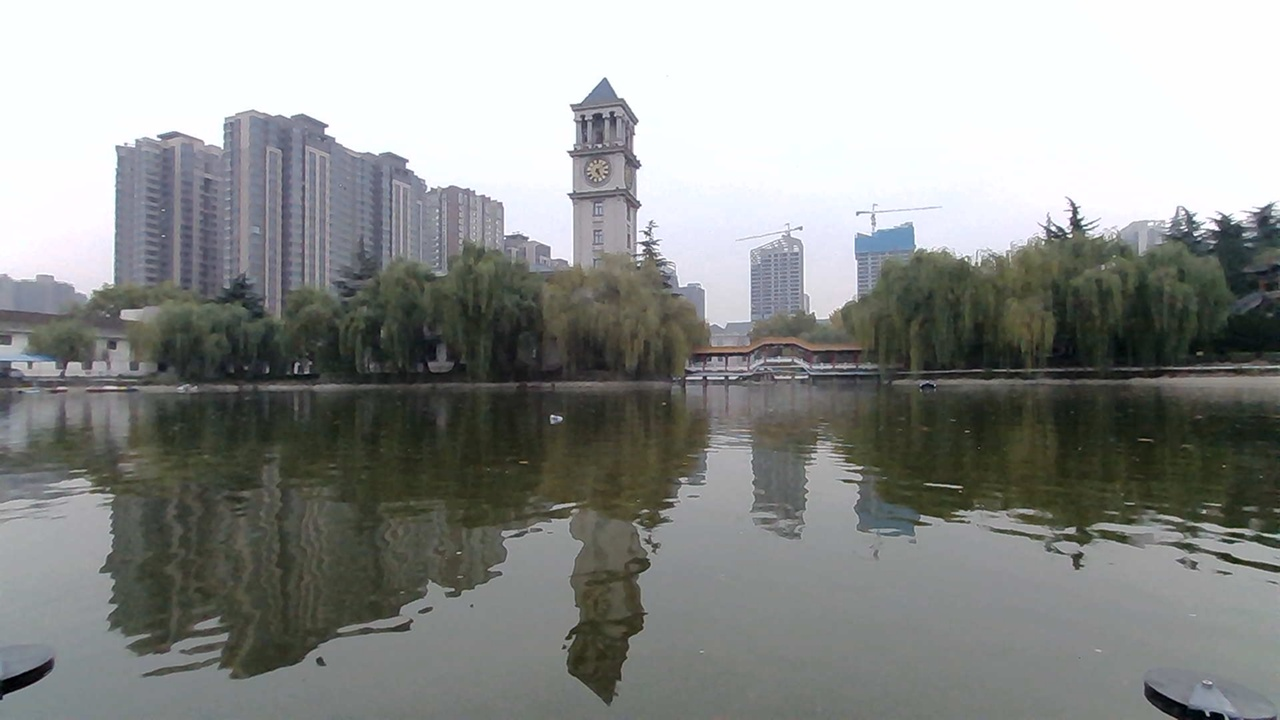bottle: (538, 406, 578, 434)
